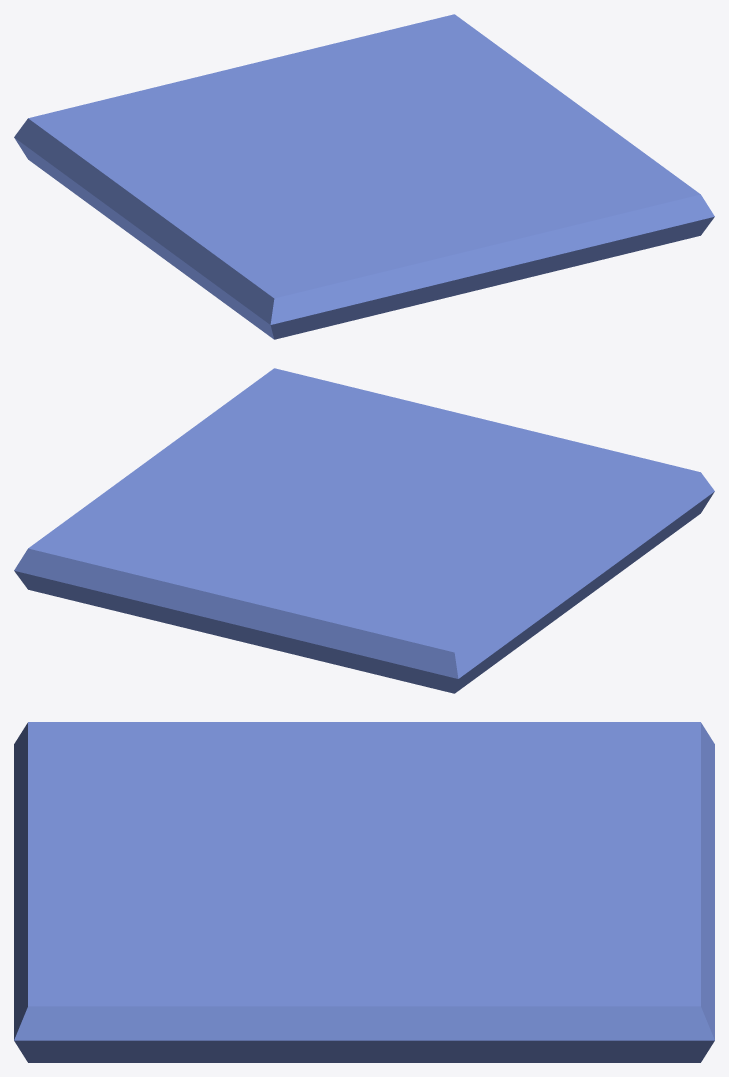
File: folded1.fbx
The picture shows the model from 3 angles, top to bottom: view 1: azimuth 30°, elevation 25°; view 2: azimuth 150°, elevation 25°; view 3: azimuth 270°, elevation 25°; orthographic projection. The views are drawn at different scales.
Parts seen in each view (by area): view 1: Cube.016; view 2: Cube.016; view 3: Cube.016.
Part boxes in pixels (left/top/right/bottom): Cube.016: left=14, top=14, right=714, bottom=339; Cube.016: left=14, top=368, right=714, bottom=693; Cube.016: left=14, top=722, right=714, bottom=1062.
Size of the model in its own units: 131 by 11.66 by 131.
